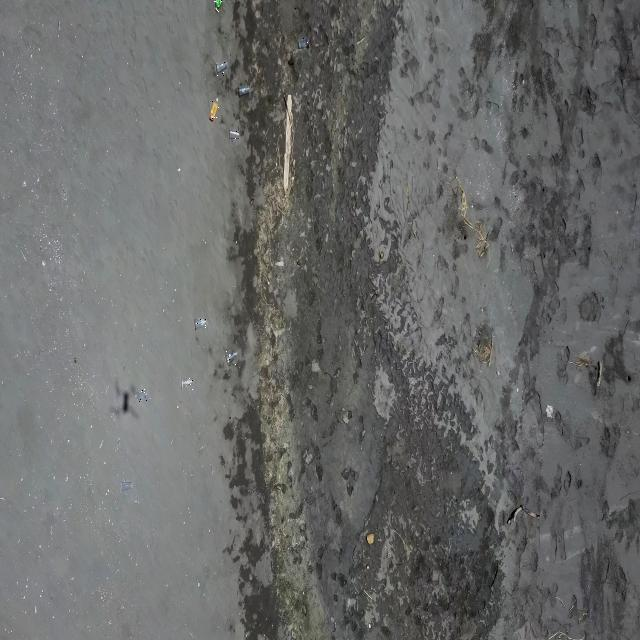plastic-bottle: (209, 98, 219, 121), (214, 0, 223, 12)
takeaway-cup: (215, 60, 228, 76), (195, 317, 208, 331), (134, 388, 147, 402), (226, 351, 238, 366), (238, 85, 251, 97), (181, 377, 193, 390), (228, 129, 240, 141), (298, 38, 309, 49)
